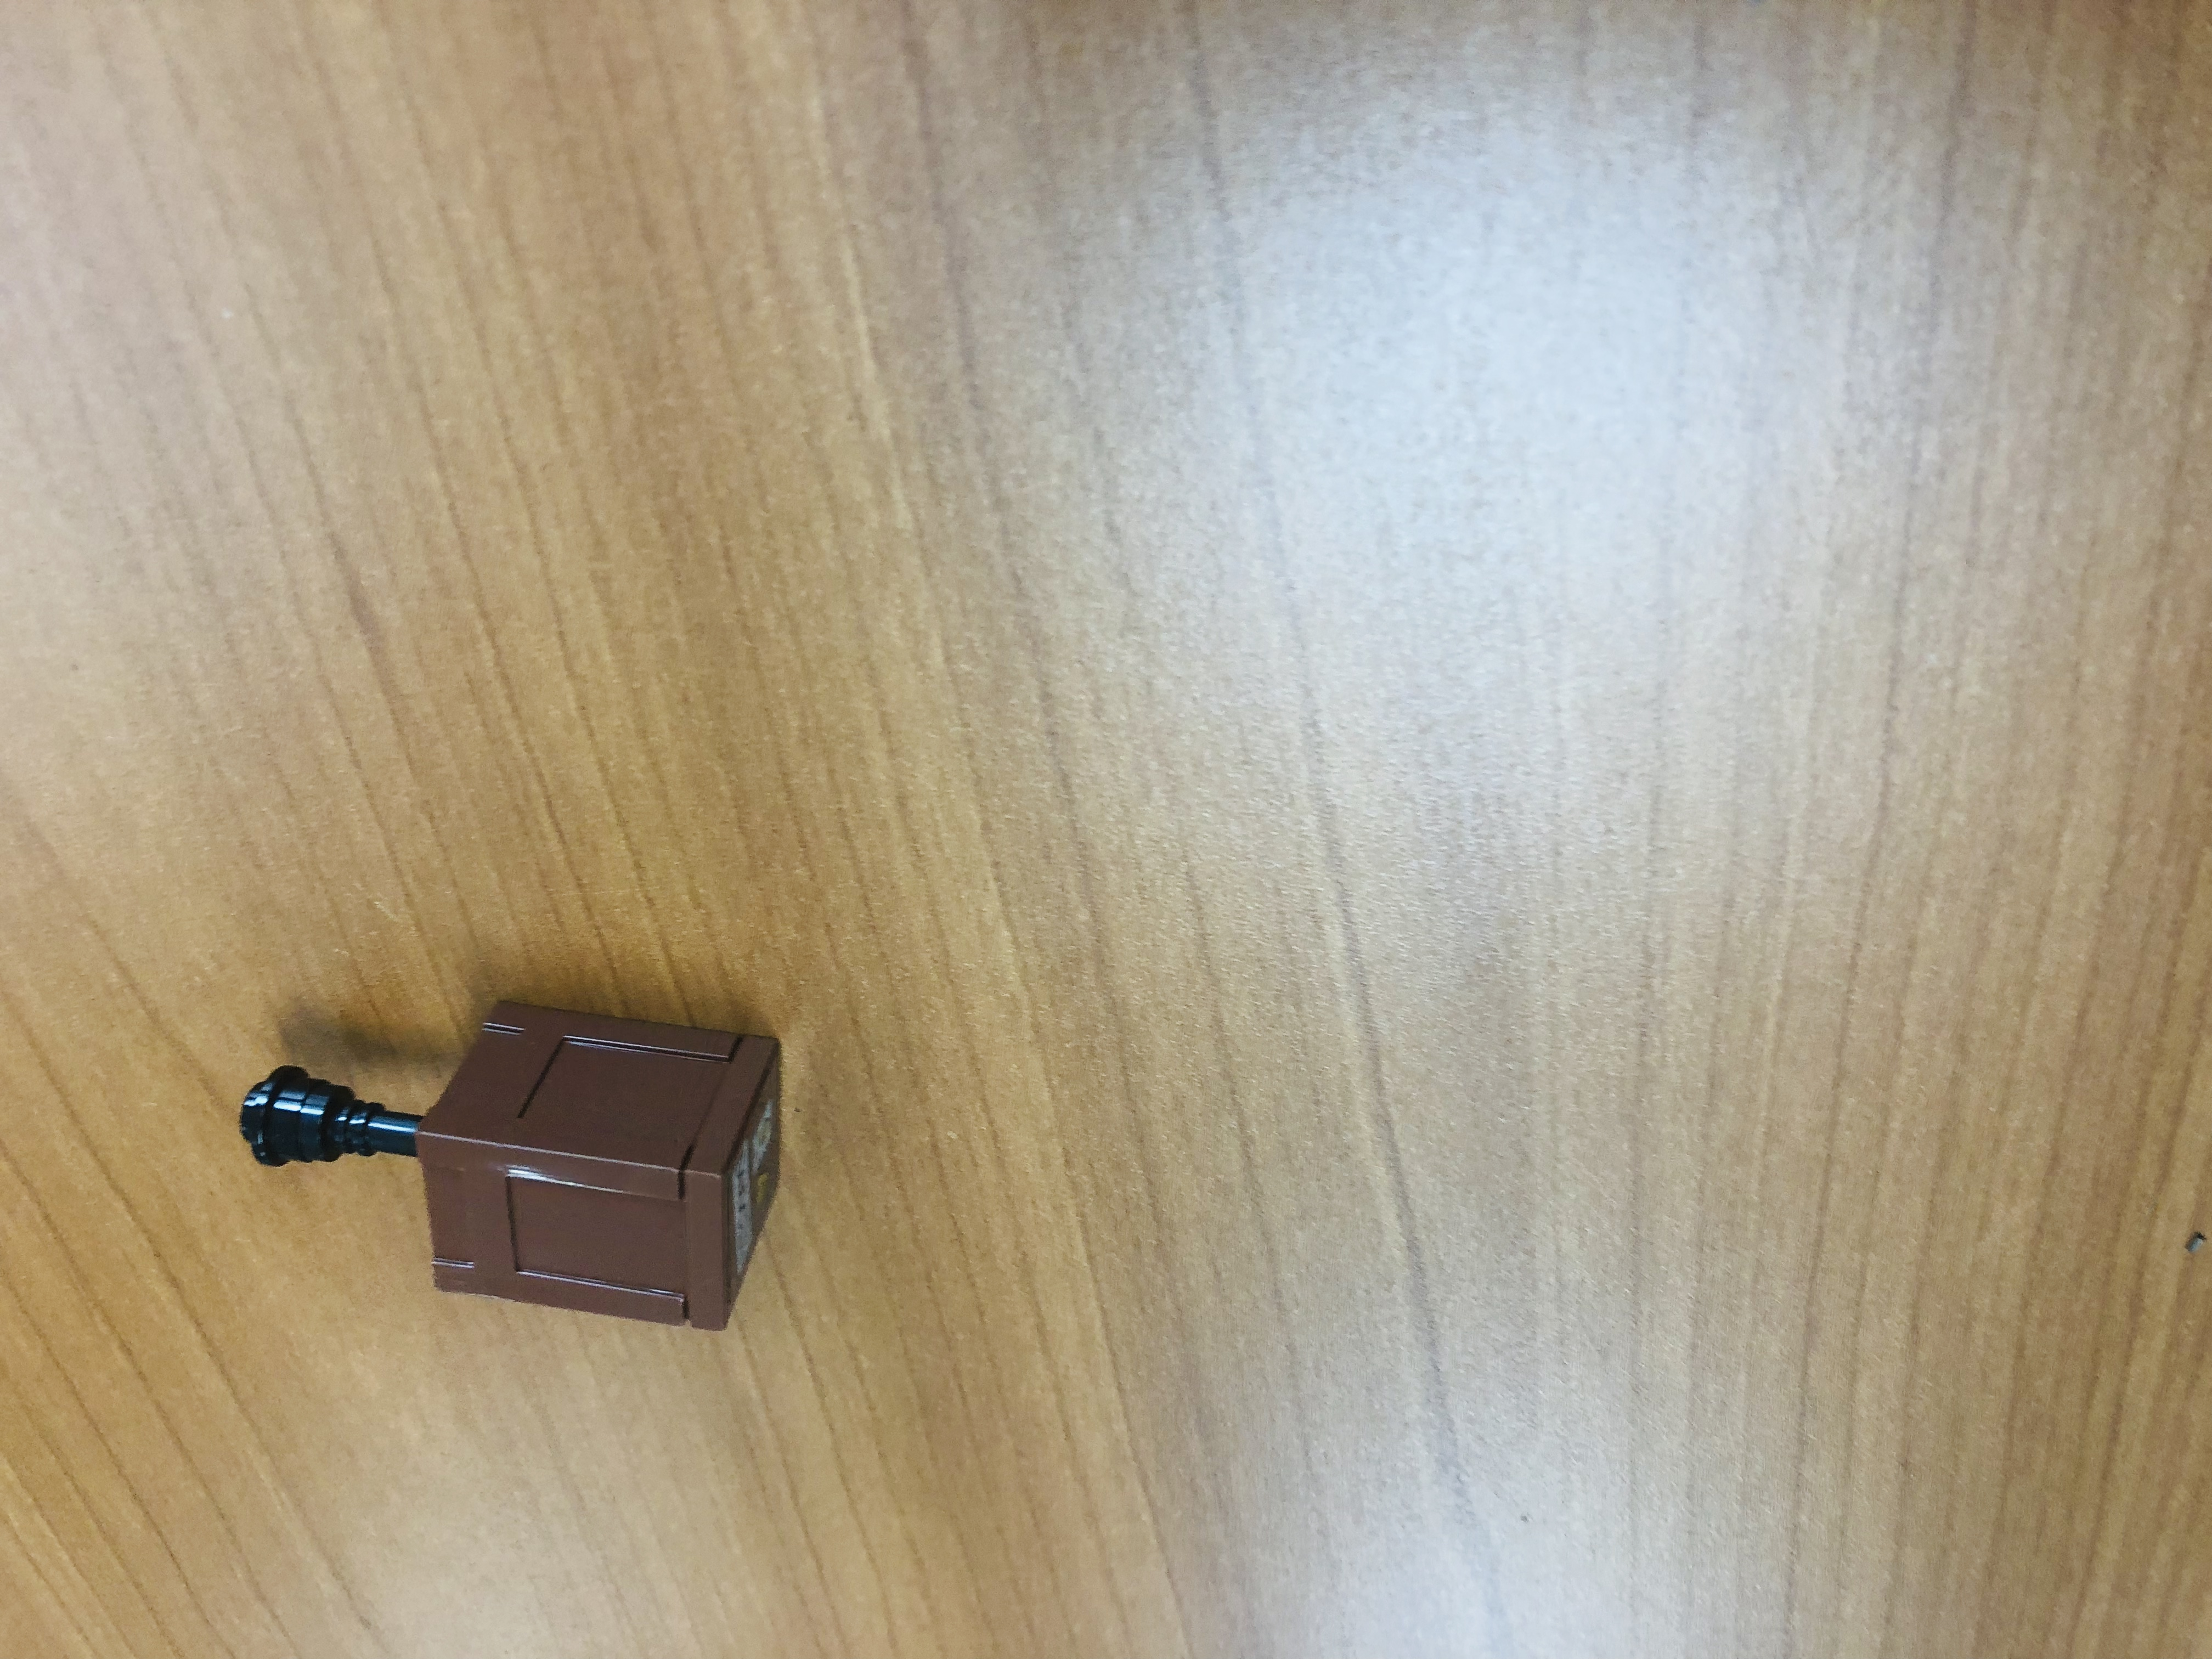box: (413, 1005, 797, 1334)
